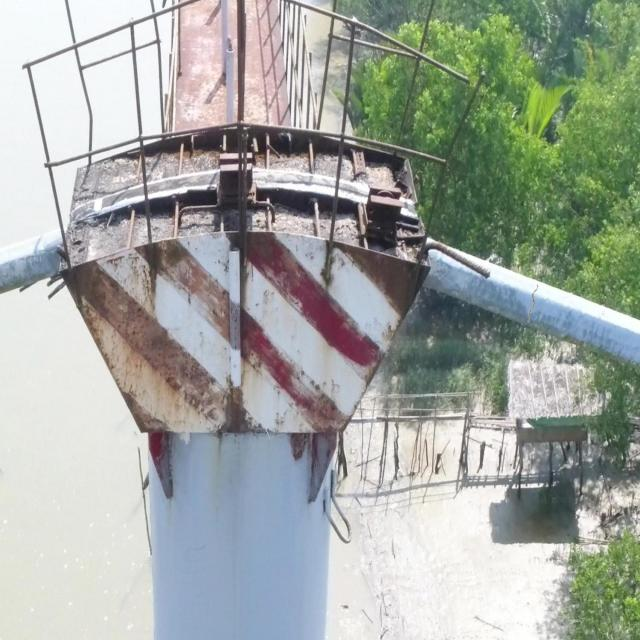crack: (526, 283, 540, 326)
